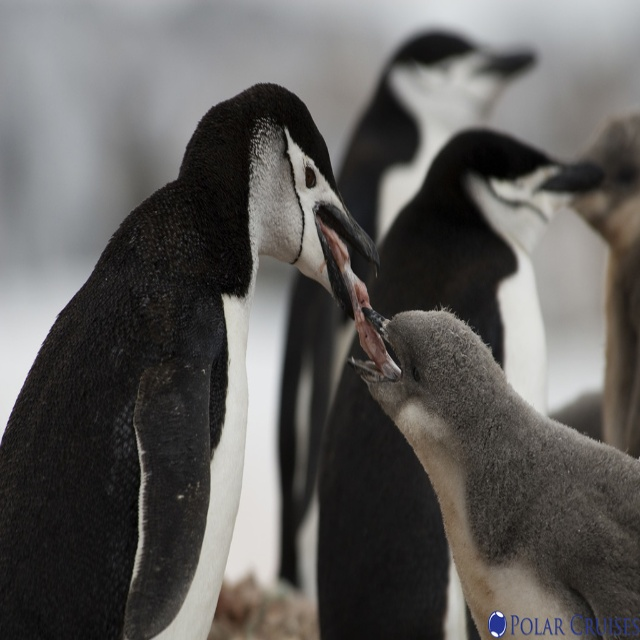Penguin: (2, 74, 398, 626), (275, 24, 537, 604), (311, 124, 604, 639), (342, 295, 639, 639), (554, 119, 639, 459)
